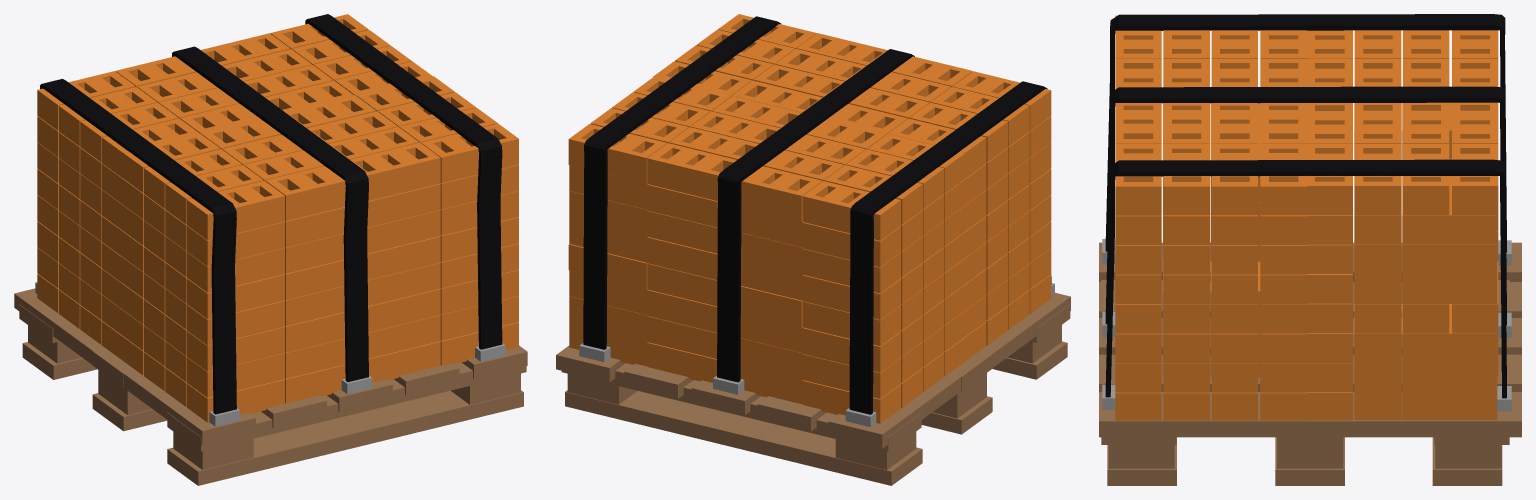
The picture shows the model from 3 angles, left to right: view 1: azimuth 30°, elevation 25°; view 2: azimuth 150°, elevation 25°; view 3: azimuth 270°, elevation 25°; orthographic projection. The views are drawn at different scales.
Visible parts, largest first — view 1: Куб.126; view 2: Куб.126; view 3: Куб.126.
Part boxes in pixels (left/top/right/bottom): Куб.126: left=14, top=14, right=527, bottom=485; Куб.126: left=556, top=14, right=1070, bottom=485; Куб.126: left=1099, top=14, right=1521, bottom=485.
Size of the model in its own units: 541 by 428 by 541.
